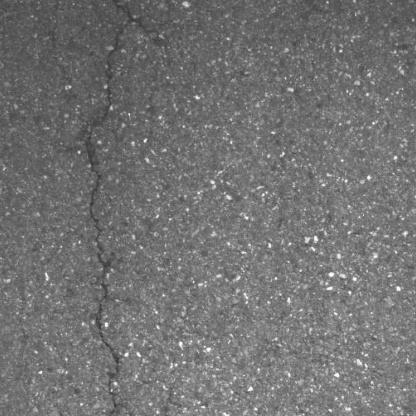Cracks: (83, 0, 140, 416)
